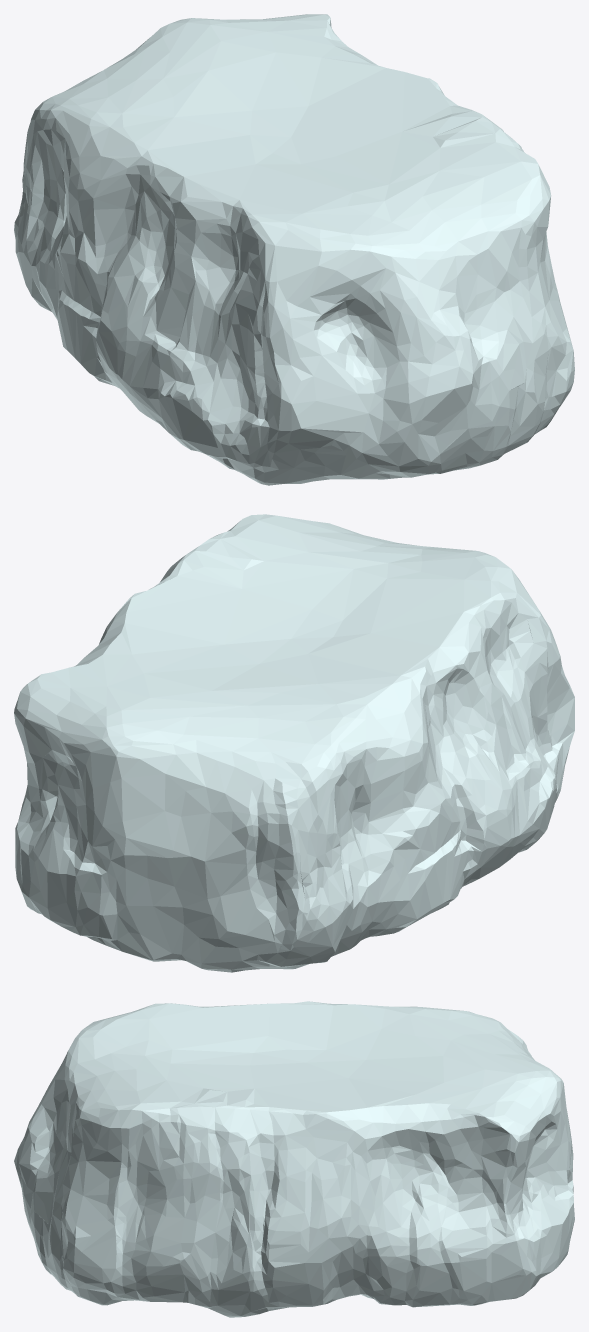
The model's file is glacier_001.fbx.
3 views of the same model, one above another, from view 1: azimuth 30°, elevation 25°; view 2: azimuth 150°, elevation 25°; view 3: azimuth 270°, elevation 25° (orthographic). The views are drawn at different scales.
Parts seen in each view (by area): view 1: glacier_001; view 2: glacier_001; view 3: glacier_001.
Boxes of the visible parts, x1=… form: glacier_001: x1=14, y1=14, x2=574, y2=485; glacier_001: x1=14, y1=514, x2=574, y2=972; glacier_001: x1=14, y1=1001, x2=574, y2=1317.
Bounding box in the file's own units: 2176 × 3192 × 1357.
